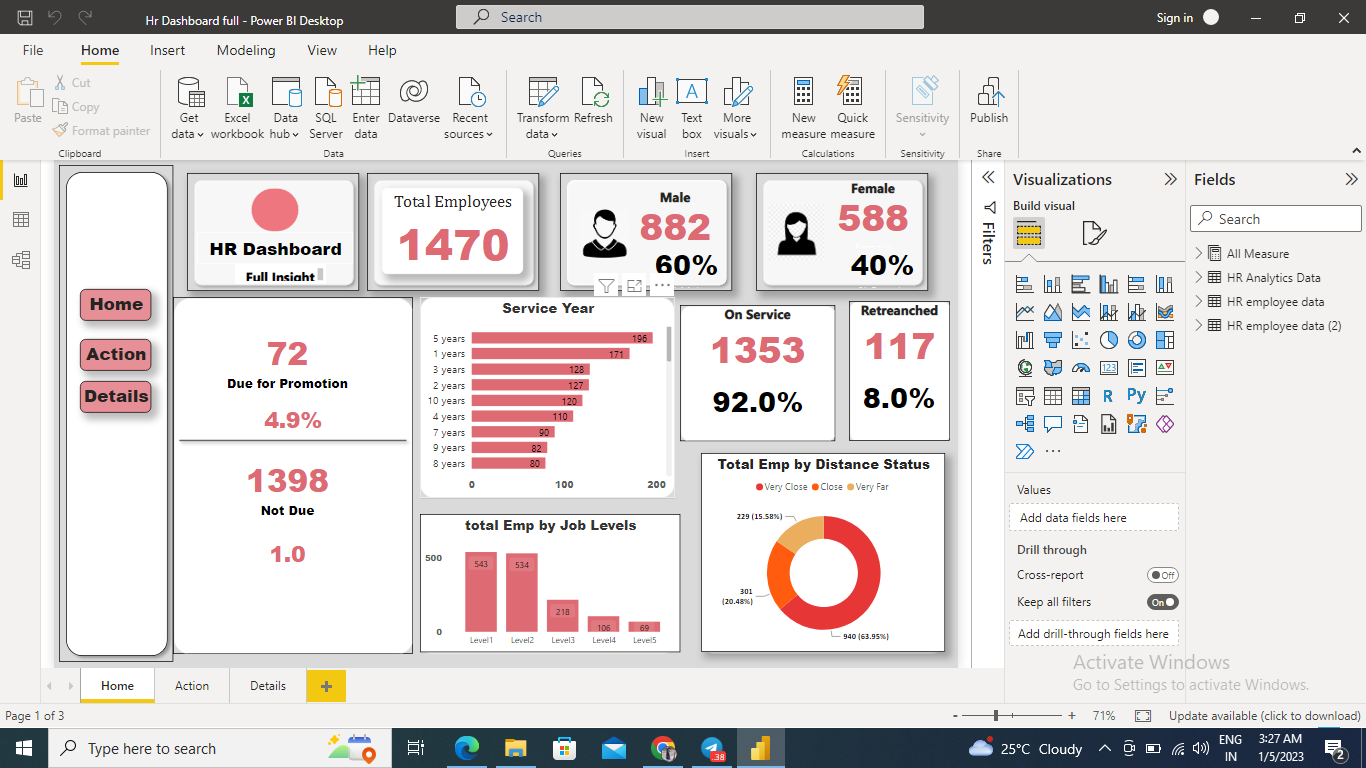

What the dashboard file says about the page in this screenshot:
{"tool":"powerbi","page":{"name":"Home","canvas":[1280,720],"ordinal":0},"visuals":[{"type":"shape","box":[7.1,7.1,161.6,704.4],"z":0},{"type":"shape","box":[188.5,18.4,243.8,167.2],"z":1000},{"type":"shape","box":[443.6,18.4,243.8,167.2],"z":2000},{"type":"shape","box":[717.2,18.4,243.8,167.2],"z":3000},{"type":"shape","box":[995,18.4,243.8,167.2],"z":4000},{"type":"shape","box":[168.7,194.2,340.2,506],"z":5000},{"type":"shape","box":[917,415.3,345.8,284.9],"z":6000},{"type":"shape","box":[518.7,501.7,361.4,198.4],"z":7000},{"type":"shape","box":[887.2,205.5,219.7,192.8],"z":8000},{"type":"shape","box":[1126.8,199.8,143.1,198.4],"z":9000},{"type":"shape","box":[518.7,194.2,361.4,284.9],"z":10000},{"type":"textbox","box":[202.7,102,221.1,45.4],"z":11000},{"type":"shape","box":[279.2,39.7,68,62.4],"z":12000},{"type":"textbox","box":[256.5,147.4,129,28.3],"z":13000},{"type":"card","title":"Total Employees","fields":{"Values":["All Measure.total Emp"]},"box":[464.9,39.7,199.8,121.9],"z":14000},{"type":"card","title":"Male","fields":{"Values":["All Measure.Male"]},"box":[809.3,39.7,141.7,102],"z":15000},{"type":"card","title":"Female","fields":{"Values":["All Measure.Female"]},"box":[1089.9,26.9,141.7,102],"z":16000},{"type":"card","title":"Male","fields":{"Values":["All Measure.% Male"]},"box":[839.1,129,114.8,56.7],"z":17000},{"type":"card","title":"Male","fields":{"Values":["All Measure.% Female"]},"box":[1116.9,129,114.8,56.7],"z":18000},{"type":"image","box":[1007.7,51,89.3,102],"z":19000},{"type":"image","box":[741.3,59.5,79.4,87.9],"z":20000},{"type":"card","fields":{"Values":["All Measure.Due for Promotion"]},"box":[181.4,209.8,299.1,150.2],"z":21000},{"type":"card","fields":{"Values":["All Measure.Not Due"]},"box":[181.4,389.8,299.1,150.2],"z":22000},{"type":"card","fields":{"Values":["All Measure.%Due for Promotion"]},"box":[276.4,337.3,124.7,60.9],"z":23000},{"type":"card","fields":{"Values":["All Measure.% Not Due"]},"box":[284.9,535.7,92.1,43.9],"z":24000},{"type":"shape","box":[168.7,248,340.2,299.1],"z":25000},{"type":"barChart","title":"Service Year","fields":{"Category":["HR Analytics Data.Services Year"],"Y":["All Measure.total Emp"]},"box":[518.7,194.2,361.4,284.9],"z":26000},{"type":"columnChart","fields":{"Y":["All Measure.total Emp"],"Category":["HR Analytics Data.Job Levels"]},"box":[518.7,501.7,368.5,195.6],"z":27000},{"type":"card","title":"On Service","fields":{"Values":["All Measure.On Service"]},"box":[887.2,205.5,219.7,117.6],"z":28000},{"type":"card","title":"Retreanched","fields":{"Values":["All Measure.Will be Retreanched"]},"box":[1126.8,199.8,143.1,117.6],"z":29000},{"type":"card","title":"Male","fields":{"Values":["All Measure.%On Service"]},"box":[928.3,323.1,138.9,56.7],"z":30000},{"type":"card","title":"Male","fields":{"Values":["All Measure.%Will be Retreanched"]},"box":[1128.2,317.5,138.9,56.7],"z":31000},{"type":"donutChart","title":"Total Emp by Distance Status","fields":{"Category":["HR Analytics Data.Distance Status"],"Y":["All Measure.total Emp"]},"box":[917,415.3,345.8,282],"z":32000},{"type":"actionButton","title":"Home","box":[36.9,182.8,100.6,45.4],"z":33000},{"type":"actionButton","title":"Action","box":[36.9,253.7,100.6,45.4],"z":34000},{"type":"actionButton","title":"Details","box":[36.9,313.2,100.6,45.4],"z":35000}]}

Visuals, with their boxes on the page's 1280x720 design canvas (x1, y1, x2, y2). These are canvas units, not pixel positions in the 1366x768 screenshot, which may show the page scaled, cropped or inside an application window:
shape: bbox=[7, 7, 169, 712]
shape: bbox=[188, 18, 432, 186]
shape: bbox=[444, 18, 687, 186]
shape: bbox=[717, 18, 961, 186]
shape: bbox=[995, 18, 1239, 186]
shape: bbox=[169, 194, 509, 700]
shape: bbox=[917, 415, 1263, 700]
shape: bbox=[519, 502, 880, 700]
shape: bbox=[887, 206, 1107, 398]
shape: bbox=[1127, 200, 1270, 398]
shape: bbox=[519, 194, 880, 479]
textbox: bbox=[203, 102, 424, 147]
shape: bbox=[279, 40, 347, 102]
textbox: bbox=[256, 147, 386, 176]
"Total Employees" card: bbox=[465, 40, 665, 162]
"Male" card: bbox=[809, 40, 951, 142]
"Female" card: bbox=[1090, 27, 1232, 129]
"Male" card: bbox=[839, 129, 954, 186]
"Male" card: bbox=[1117, 129, 1232, 186]
image: bbox=[1008, 51, 1097, 153]
image: bbox=[741, 60, 821, 147]
card - All Measure.Due for Promotion: bbox=[181, 210, 480, 360]
card - All Measure.Not Due: bbox=[181, 390, 480, 540]
card - All Measure.%Due for Promotion: bbox=[276, 337, 401, 398]
card - All Measure.% Not Due: bbox=[285, 536, 377, 580]
shape: bbox=[169, 248, 509, 547]
"Service Year" barChart: bbox=[519, 194, 880, 479]
columnChart - All Measure.total Emp x HR Analytics Data.Job Levels: bbox=[519, 502, 887, 697]
"On Service" card: bbox=[887, 206, 1107, 323]
"Retreanched" card: bbox=[1127, 200, 1270, 317]
"Male" card: bbox=[928, 323, 1067, 380]
"Male" card: bbox=[1128, 318, 1267, 374]
"Total Emp by Distance Status" donutChart: bbox=[917, 415, 1263, 697]
"Home" actionButton: bbox=[37, 183, 138, 228]
"Action" actionButton: bbox=[37, 254, 138, 299]
"Details" actionButton: bbox=[37, 313, 138, 359]
